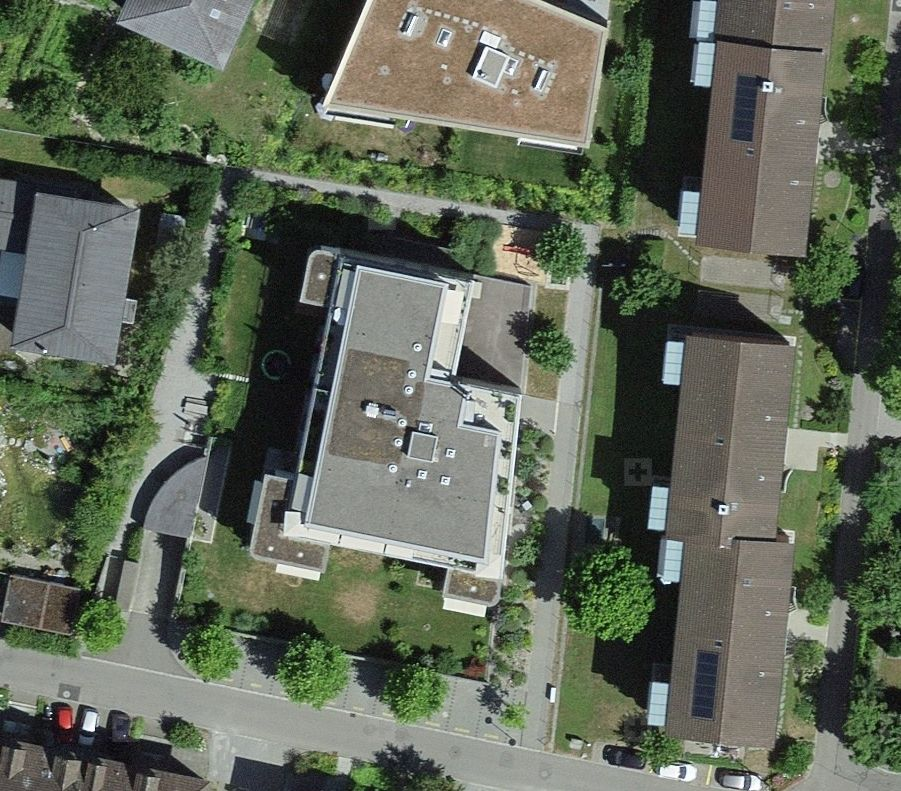solar: (718, 59, 773, 163), (678, 633, 730, 731)
